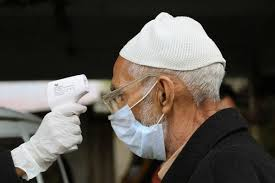mask: (103, 46, 188, 161)
